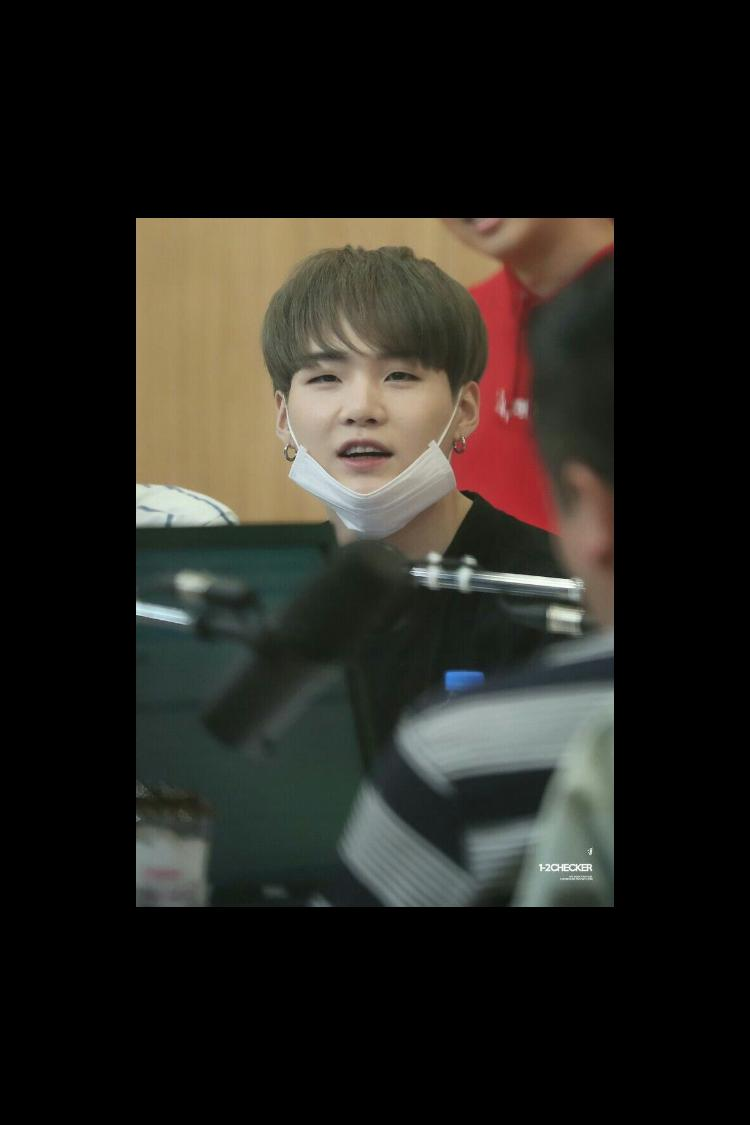mask_weared_incorrect: (295, 361, 458, 525)
